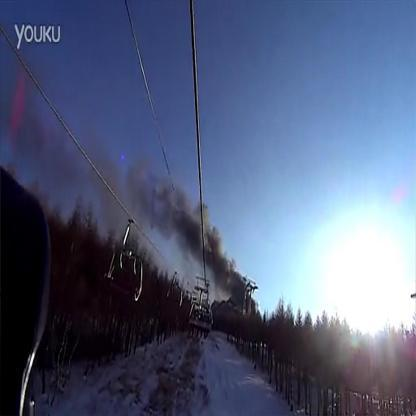smoke: (134, 165, 192, 248), (214, 252, 248, 308), (194, 205, 220, 264)
